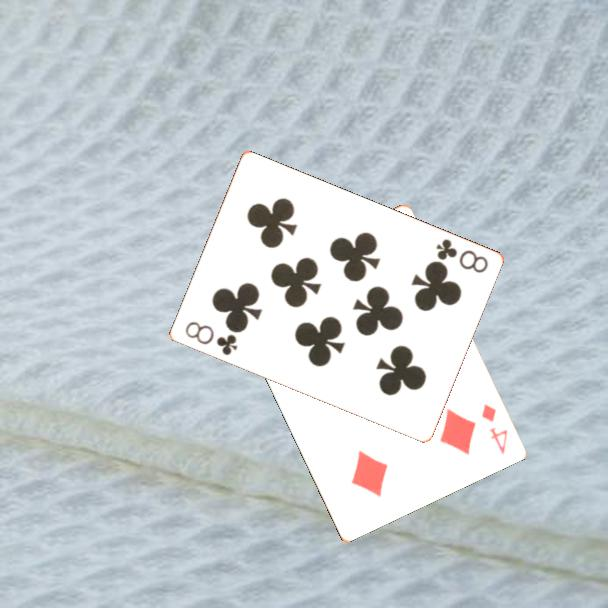c08: (432, 235, 491, 276), (181, 318, 240, 358)
d04: (477, 400, 510, 457)
